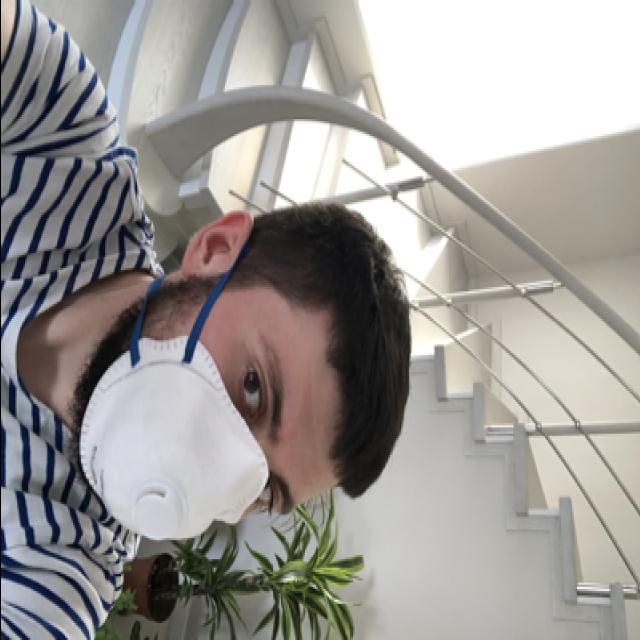with_mask: (67, 308, 306, 542)
